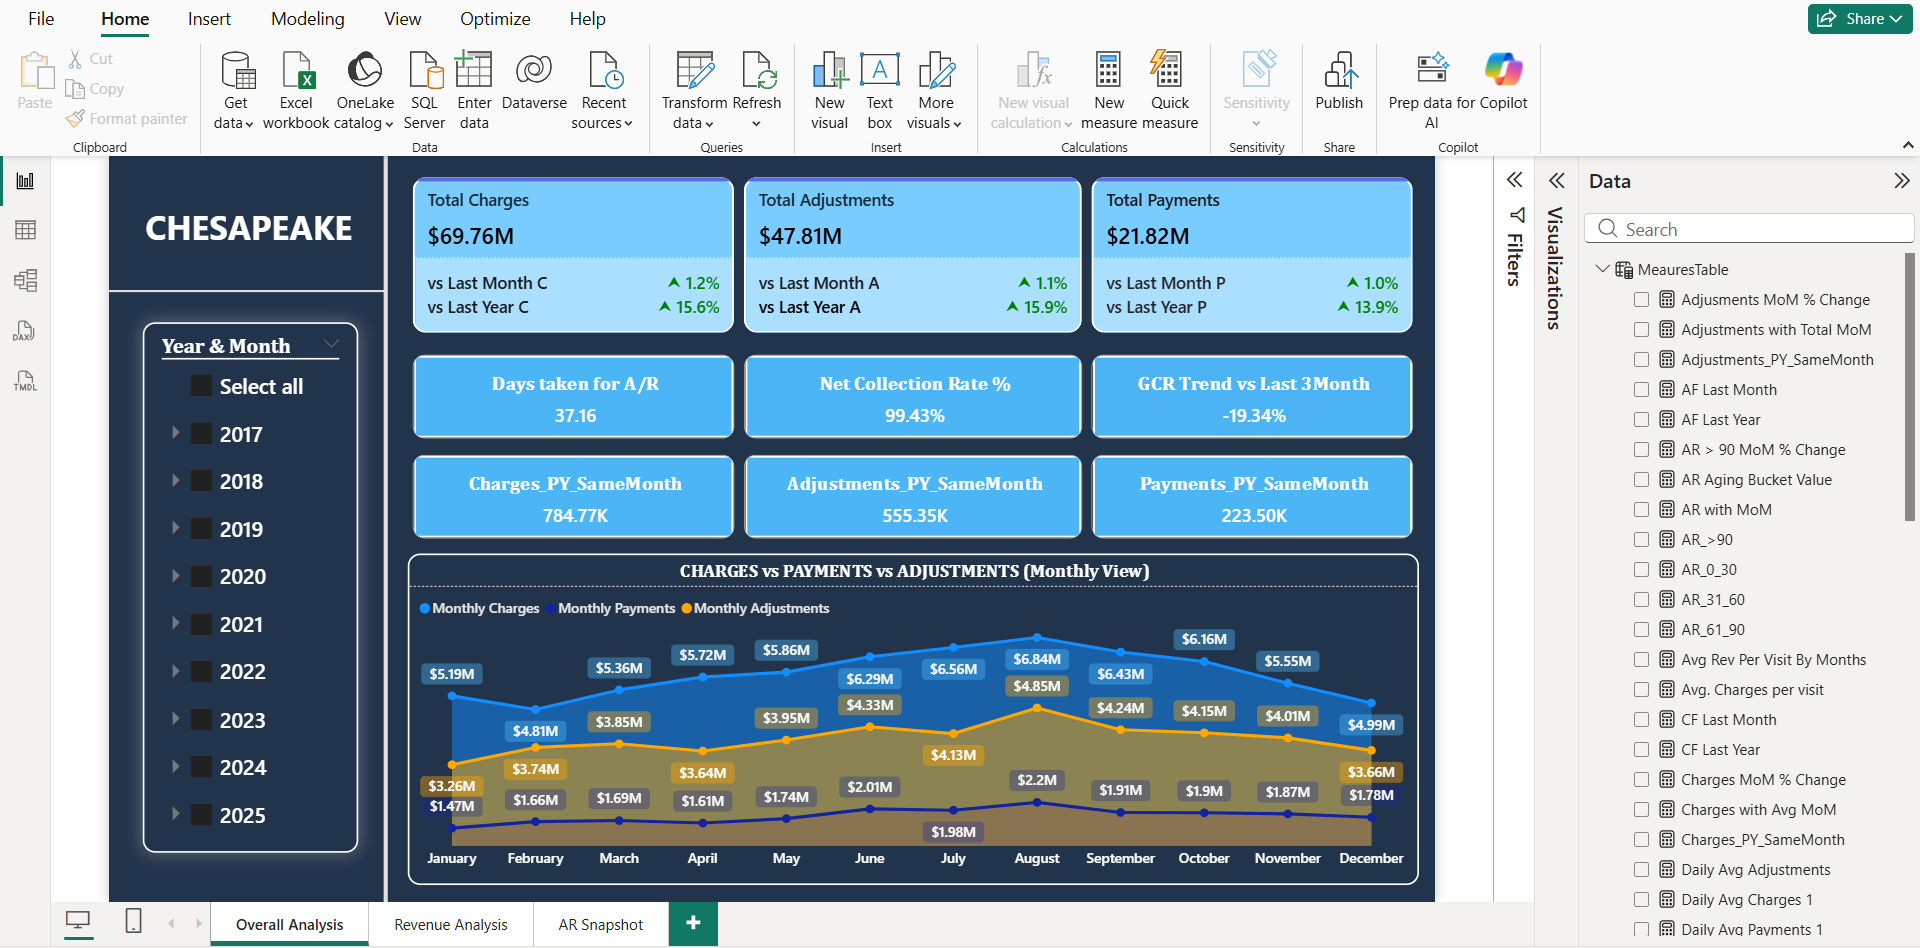

Layout of this report page (visuals, bound fields, positions):
{"tool":"powerbi","page":{"name":"Overall Analysis","canvas":[1280,720],"ordinal":0},"visuals":[{"type":"cardVisual","title":"TOTAL ADJUSTMENTS","fields":{"Data":["CBayData.Adjustments with MoM"]},"box":[603.4,17.3,316.8,93.6],"z":0},{"type":"cardVisual","fields":{"Data":["CBayData.Payments with MoM"]},"box":[921.3,17,328.8,93.5],"z":1000},{"type":"cardVisual","fields":{"Data":["CBayData.Days taken for A/R"]},"box":[283.7,109.4,319.7,97.9],"z":2000},{"type":"slicer","fields":{"Values":["DateTable.Date.Variation.Date Hierarchy.Year","DateTable.Date.Variation.Date Hierarchy.Month"]},"box":[22.7,158.7,223.9,517.3],"z":3000},{"type":"lineChart","title":"CHARGES vs PAYMENTS vs ADJUSTMENTS (Monthly View)","fields":{"Category":["DateTable.Date.Variation.Date Hierarchy.Year","DateTable.Date.Variation.Date Hierarchy.Month"],"Y":["Sum(CBayData.Monthly Charges)","Sum(CBayData.Monthly Payments)","Sum(CBayData.Monthly Adjustments)"]},"box":[284.9,303.3,965.2,401.1],"z":4000},{"type":"cardVisual","fields":{"Data":["CBayData.GCR_Trend_vs_3M"]},"box":[921.6,109.4,328.3,97.9],"z":5000},{"type":"cardVisual","fields":{"Data":["CBayData.Net Collection Rate %"]},"box":[603.4,109.4,316.8,97.9],"z":6000},{"type":"cardVisual","fields":{"Data":["CBayData.Previous Month Adjustments"]},"box":[921.4,207,329.5,96.2],"z":7000},{"type":"cardVisual","fields":{"Data":["CBayData.Charges_PY_SameMonth"]},"box":[283.7,207.4,319.7,96.5],"z":8000},{"type":"cardVisual","fields":{"Data":["CBayData.Previous Month Payments"]},"box":[603.6,207,316.4,96.2],"z":9000},{"type":"cardVisual","title":"TOTAL CHARGES","fields":{"Data":["CBayData.Charges with Avg MoM"]},"box":[283.7,17.3,319.7,93.6],"z":13000},{"type":"shape","box":[260.6,0,13,720],"z":14000},{"type":"textbox","box":[22.7,42.5,223.9,68],"z":15000},{"type":"shape","box":[0,121.9,266.5,17],"z":16000}]}

Visuals, with their boxes on the page's 1280x720 design canvas (x1, y1, x2, y2). These are canvas units, not pixel positions in the 1920x948 screenshot, which may show the page scaled, cropped or inside an application window:
"TOTAL ADJUSTMENTS" cardVisual: locate(603, 17, 920, 111)
cardVisual - CBayData.Payments with MoM: locate(921, 17, 1250, 110)
cardVisual - CBayData.Days taken for A/R: locate(284, 109, 603, 207)
slicer - DateTable.Date.Variation.Date Hierarchy.Year x DateTable.Date.Variation.Date Hierarchy.Month: locate(23, 159, 247, 676)
"CHARGES vs PAYMENTS vs ADJUSTMENTS (Monthly View)" lineChart: locate(285, 303, 1250, 704)
cardVisual - CBayData.GCR_Trend_vs_3M: locate(922, 109, 1250, 207)
cardVisual - CBayData.Net Collection Rate %: locate(603, 109, 920, 207)
cardVisual - CBayData.Previous Month Adjustments: locate(921, 207, 1251, 303)
cardVisual - CBayData.Charges_PY_SameMonth: locate(284, 207, 603, 304)
cardVisual - CBayData.Previous Month Payments: locate(604, 207, 920, 303)
"TOTAL CHARGES" cardVisual: locate(284, 17, 603, 111)
shape: locate(261, 0, 274, 720)
textbox: locate(23, 42, 247, 110)
shape: locate(0, 122, 266, 139)
